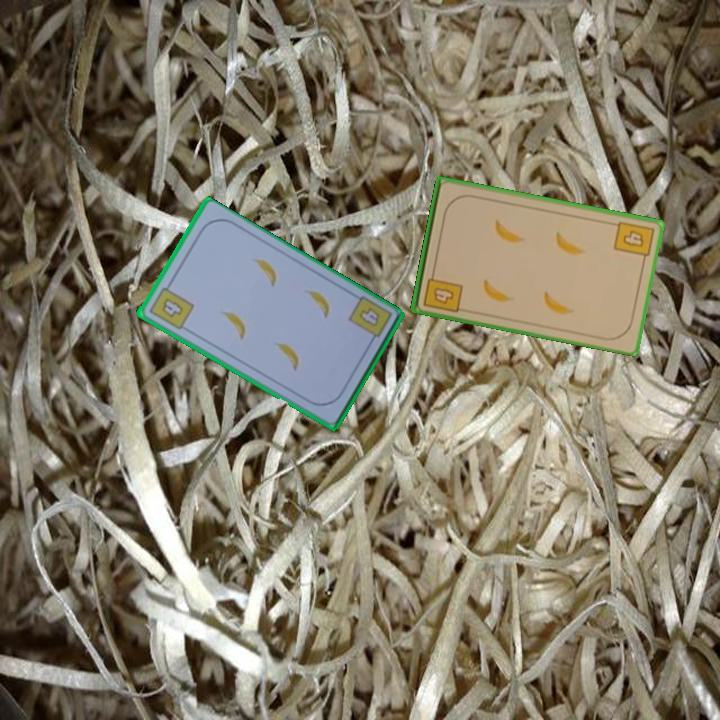4b: (145, 279, 196, 333), (610, 218, 657, 266), (420, 266, 465, 316), (355, 304, 382, 330)
